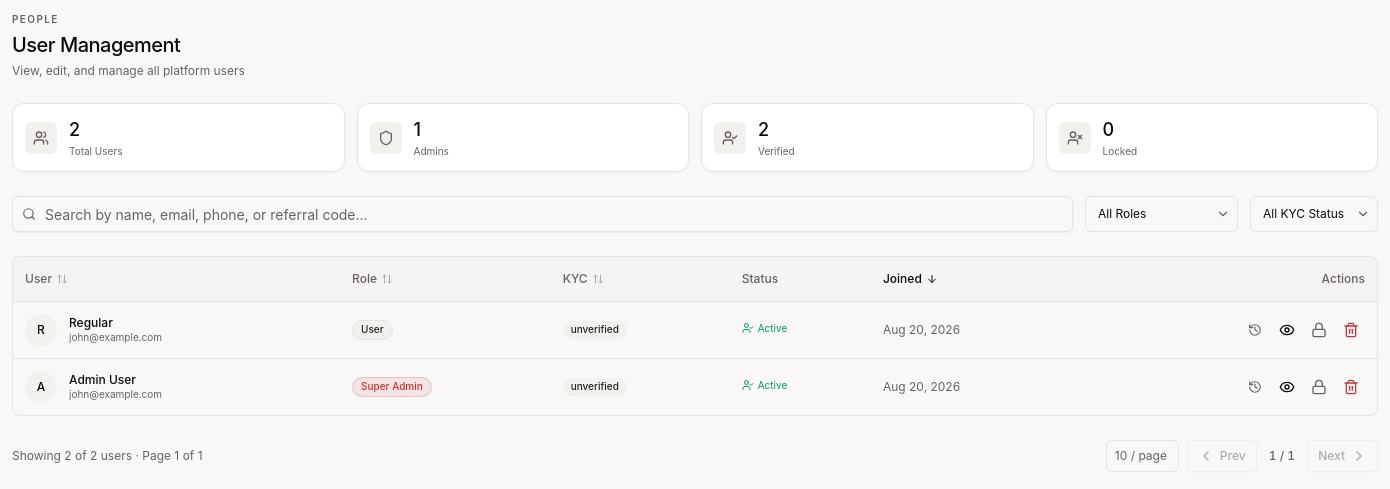
AdminUsers Page › Role Filter › filters by role
Select "Super Admin" in the 1st dropdown showing "All Roles" at (1162, 214), box x1=1085 y1=196 x2=1238 y2=232
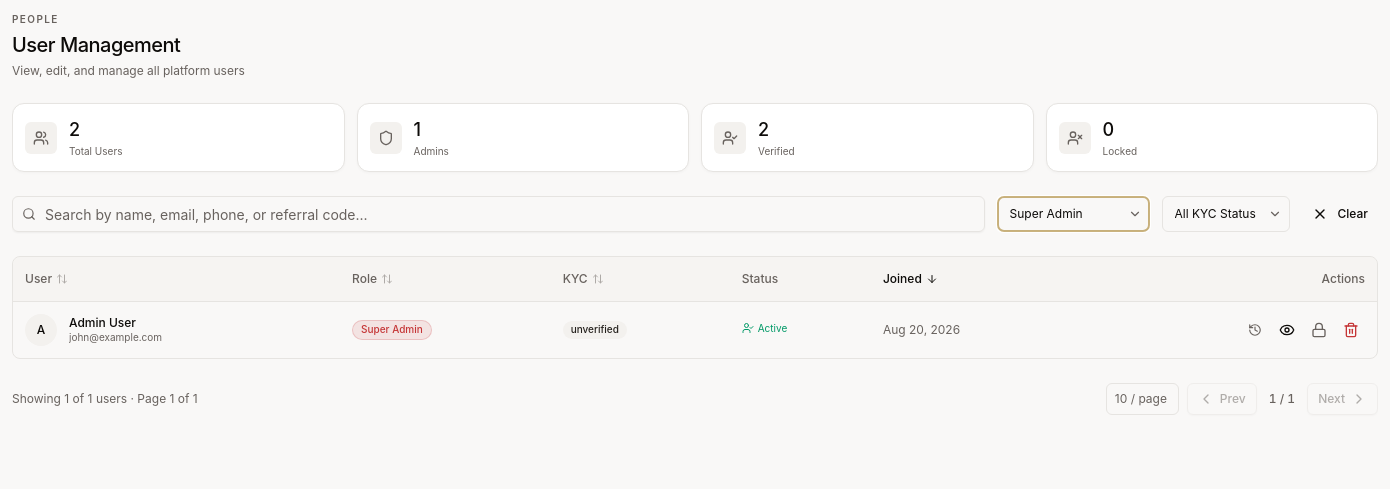
Expected: the text "Admin User" is shown, x1=69 y1=315 x2=136 y2=330
Expected: the text "Regular" is gone
